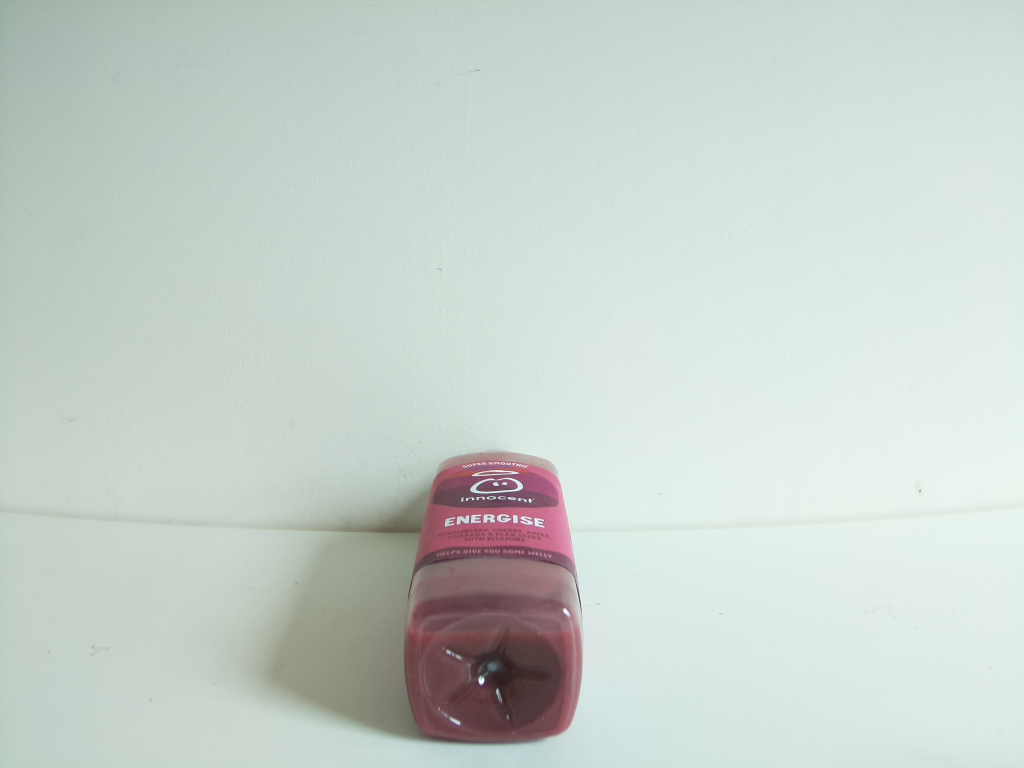juice: (405, 449, 587, 749)
